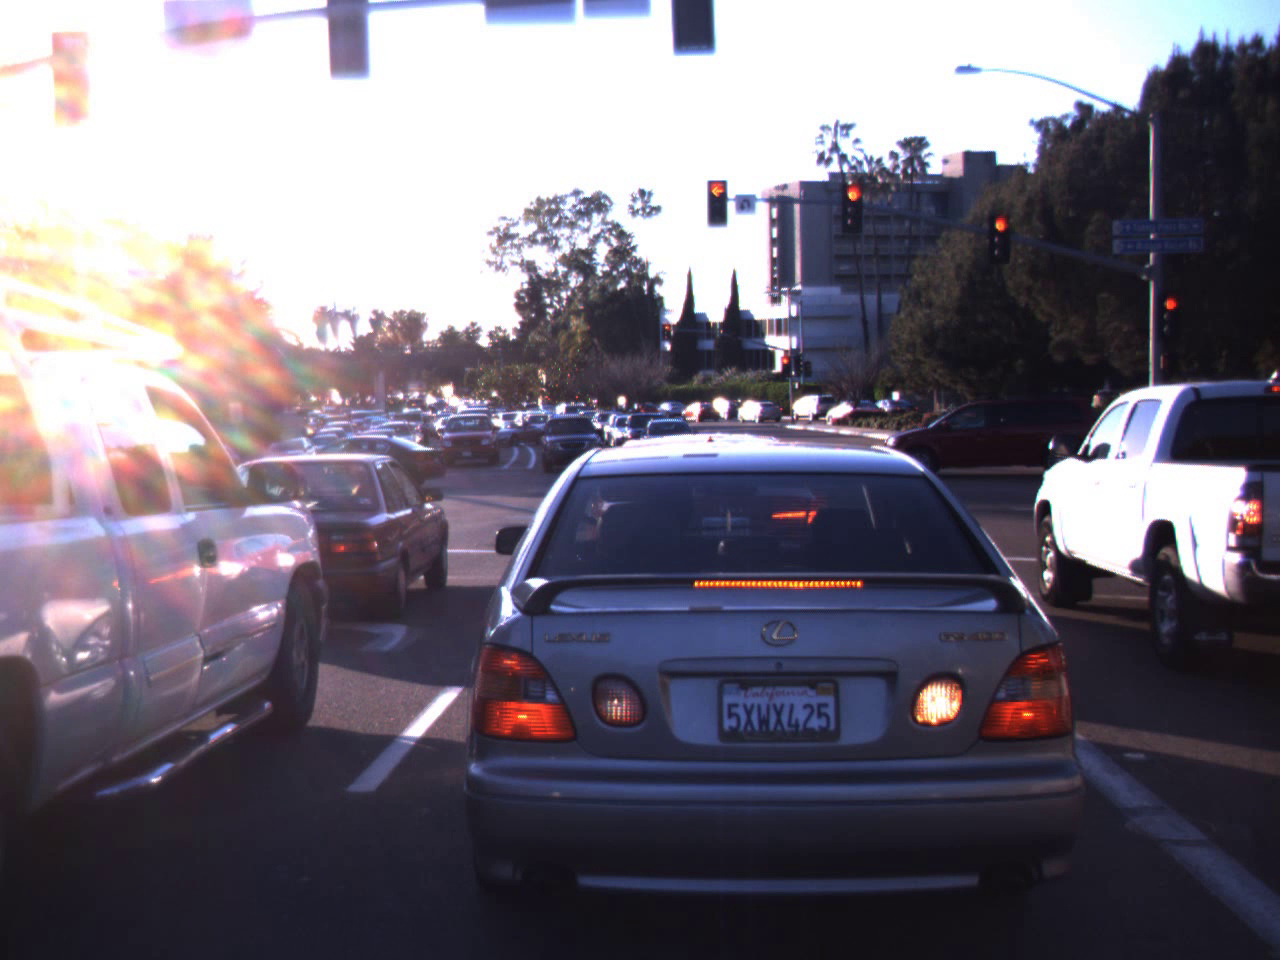Traffic_Light_stop: (987, 209, 1012, 264), (843, 181, 863, 246), (1160, 286, 1181, 331), (706, 183, 726, 225)
